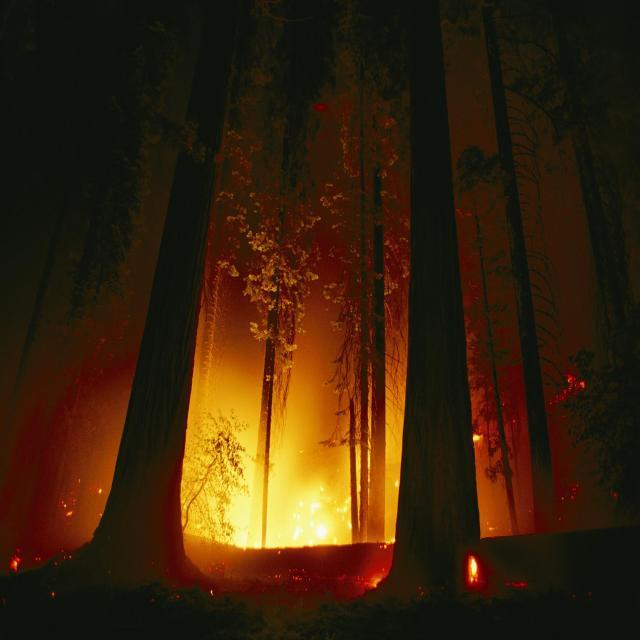Fire: (188, 385, 374, 550)
